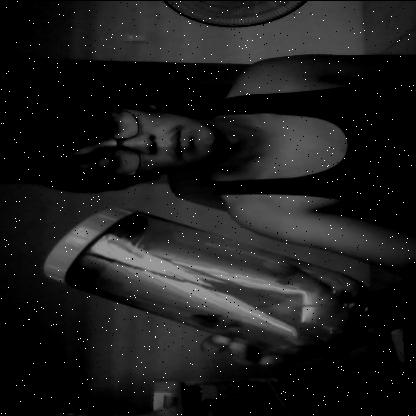Plastic Bottle: (41, 206, 386, 356)
